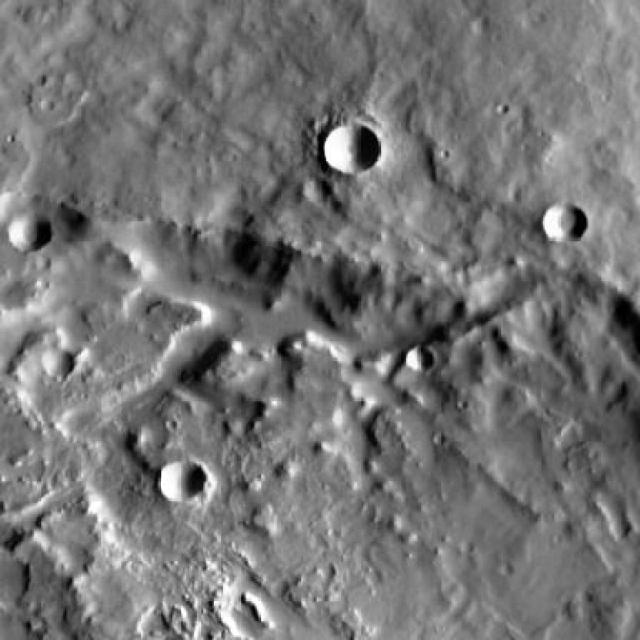crater: (324, 128, 379, 177), (540, 207, 588, 248), (160, 458, 206, 500), (8, 215, 50, 258), (405, 347, 432, 371)
